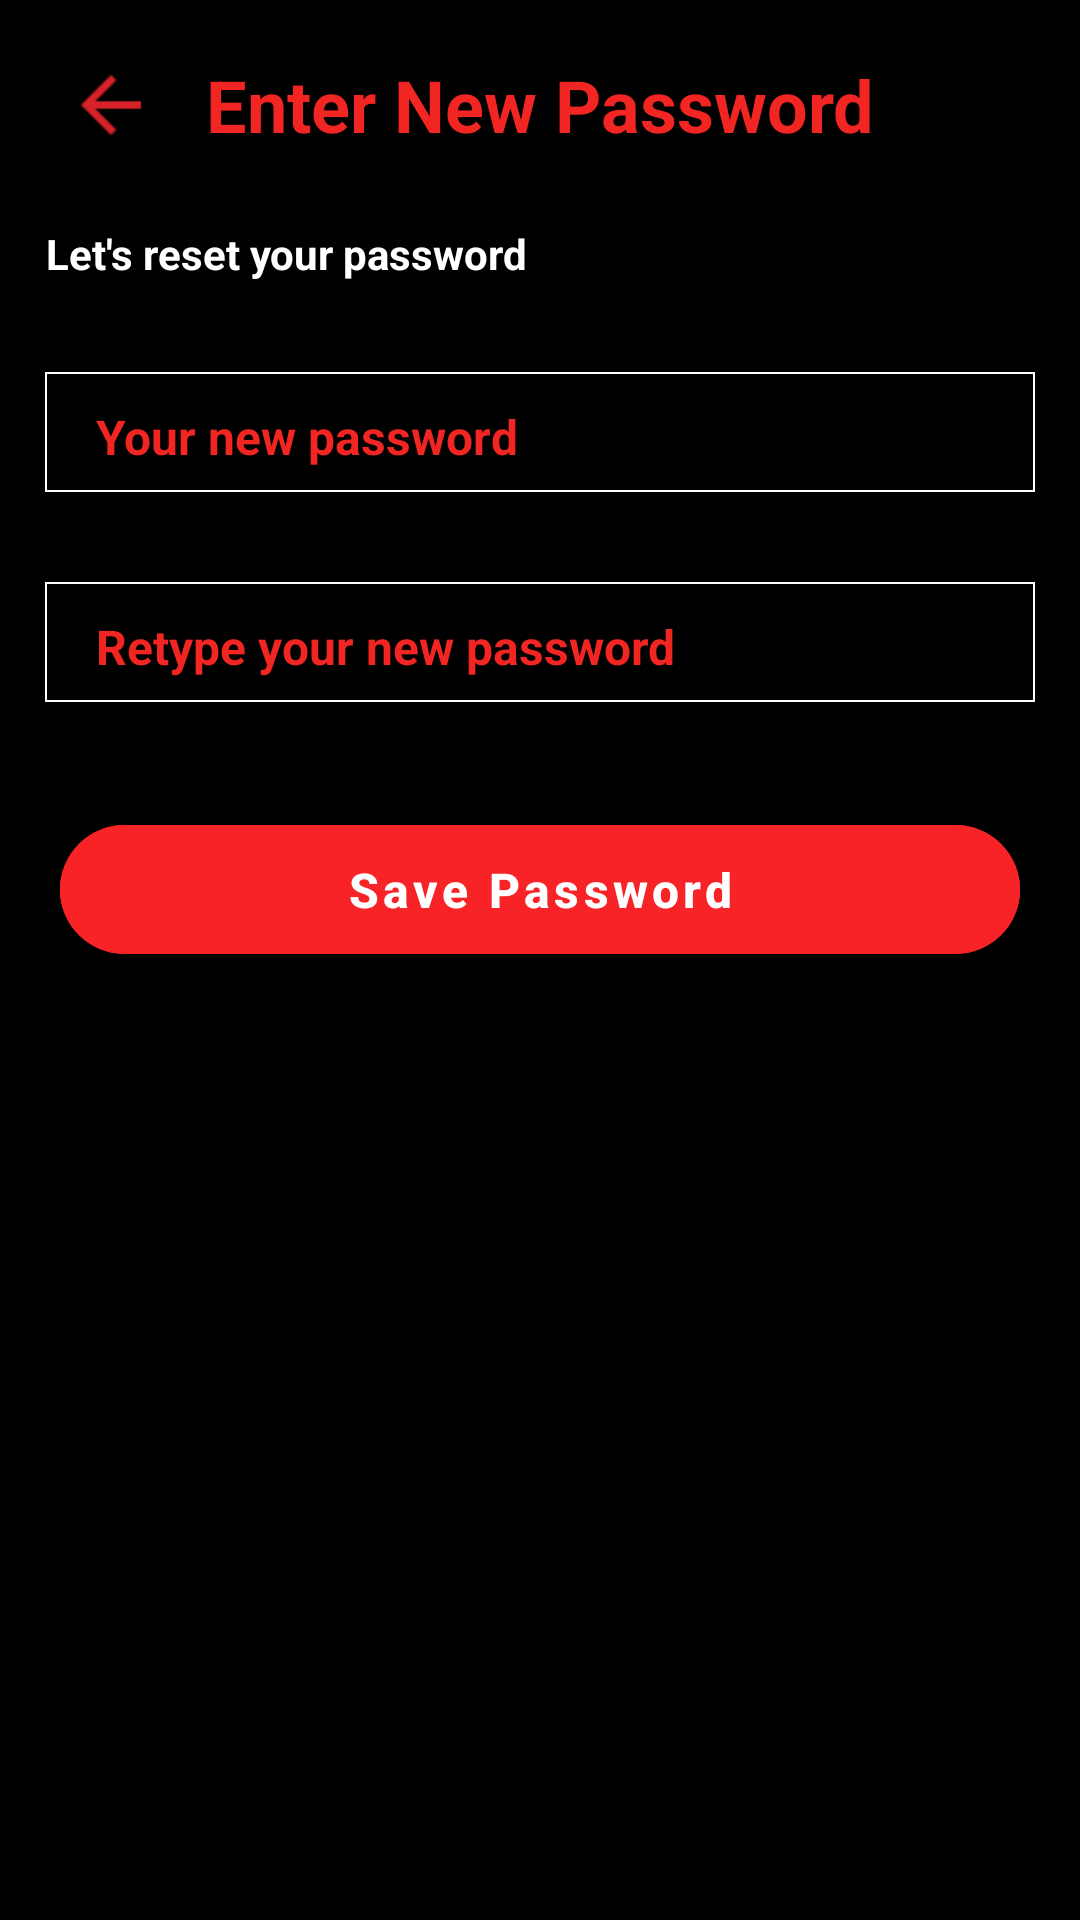

Icons on this 1080px×1920px Android screen, each with the point to tap as [x,y]:
back: [111,105]
